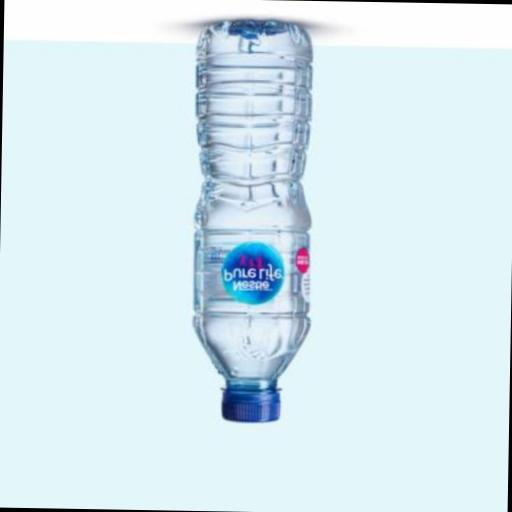Coca: (179, 11, 326, 437)
